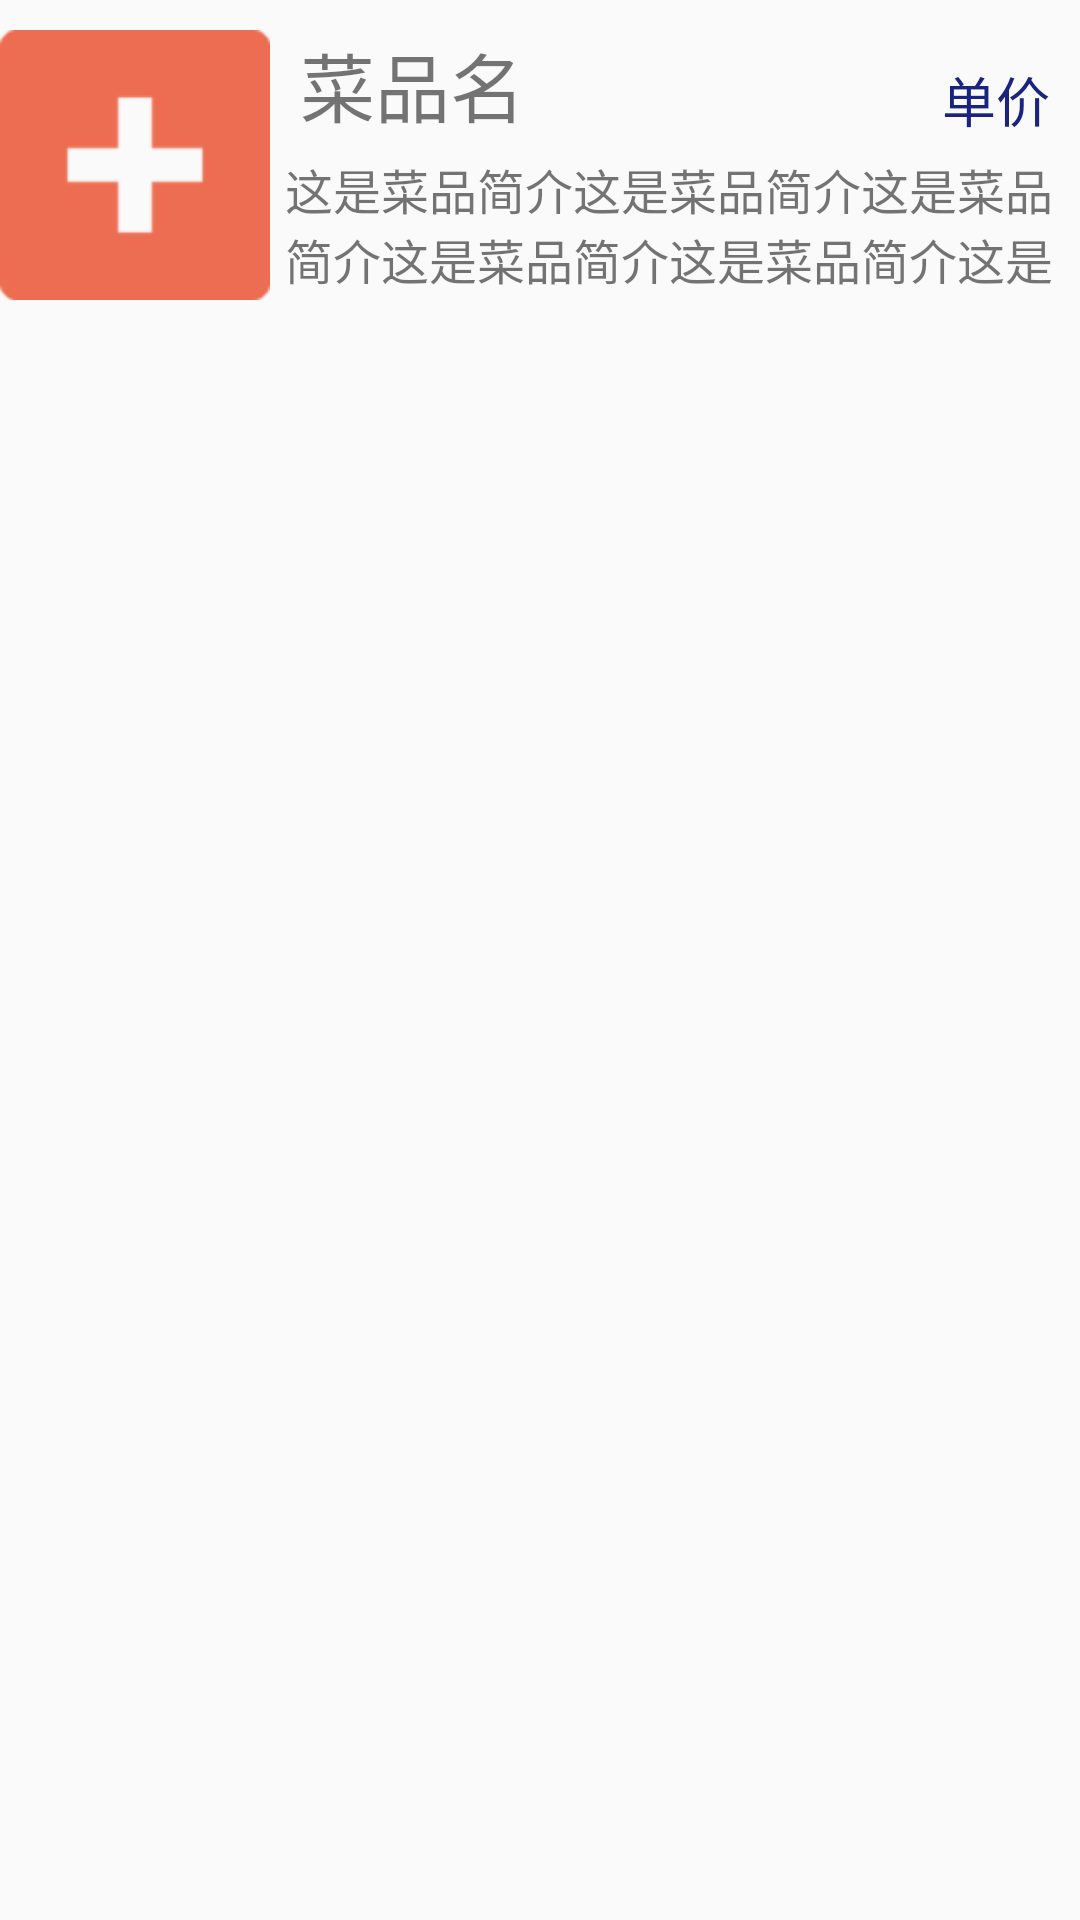

Screen size 1080 × 1920. Icon name, then its box in pixels as region(x1, y1, x2, y2):
add picture: region(0, 30, 270, 300)
